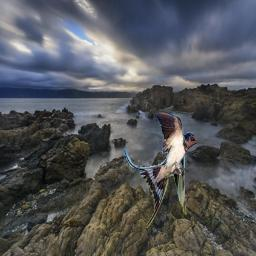Swallow: (124, 111, 197, 228)
